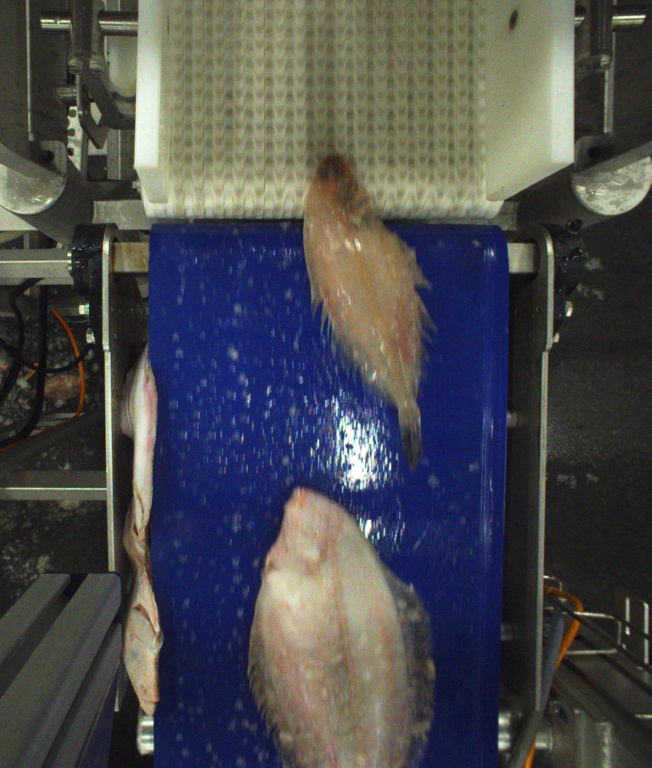WIT: (304, 152, 435, 467)
